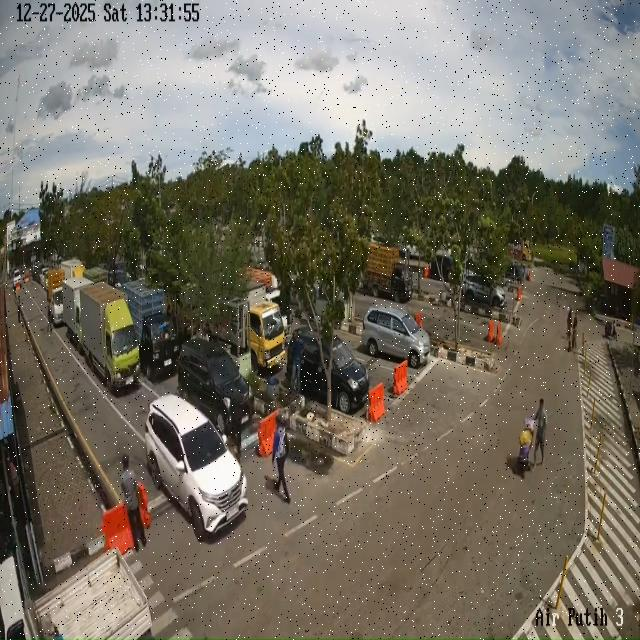Golongan IVA: (145, 394, 248, 542), (177, 338, 255, 436), (286, 327, 370, 414), (362, 305, 430, 369), (462, 271, 506, 309)
Golongan IVB: (362, 240, 413, 300), (47, 269, 65, 327)
Golongan VB: (80, 283, 140, 392), (62, 277, 92, 348)
